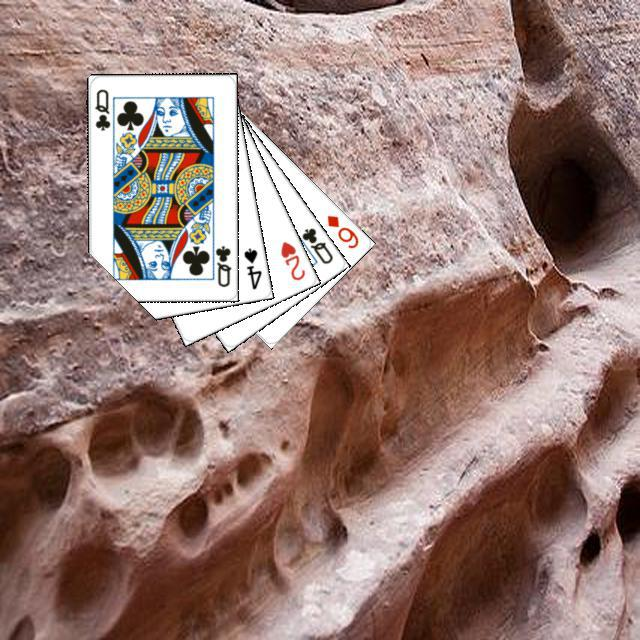2h: (275, 236, 307, 282)
4s: (239, 243, 263, 291)
6d: (322, 210, 360, 250)
Qc: (289, 223, 335, 266), (206, 237, 232, 289), (90, 84, 111, 132)
